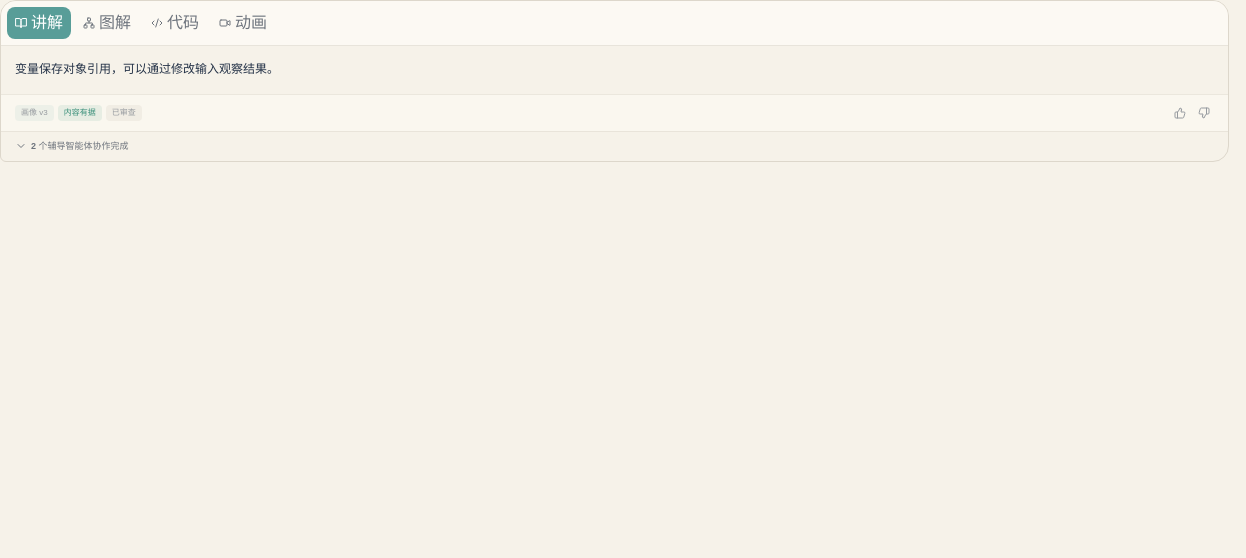
Test case: TutorRichResponse › plays the storyboard using per-scene timing
The width and height of the screenshot is (1246, 558).
Step 1. Click the button "动画" → (243, 23), box x1=211 y1=7 x2=275 y2=39
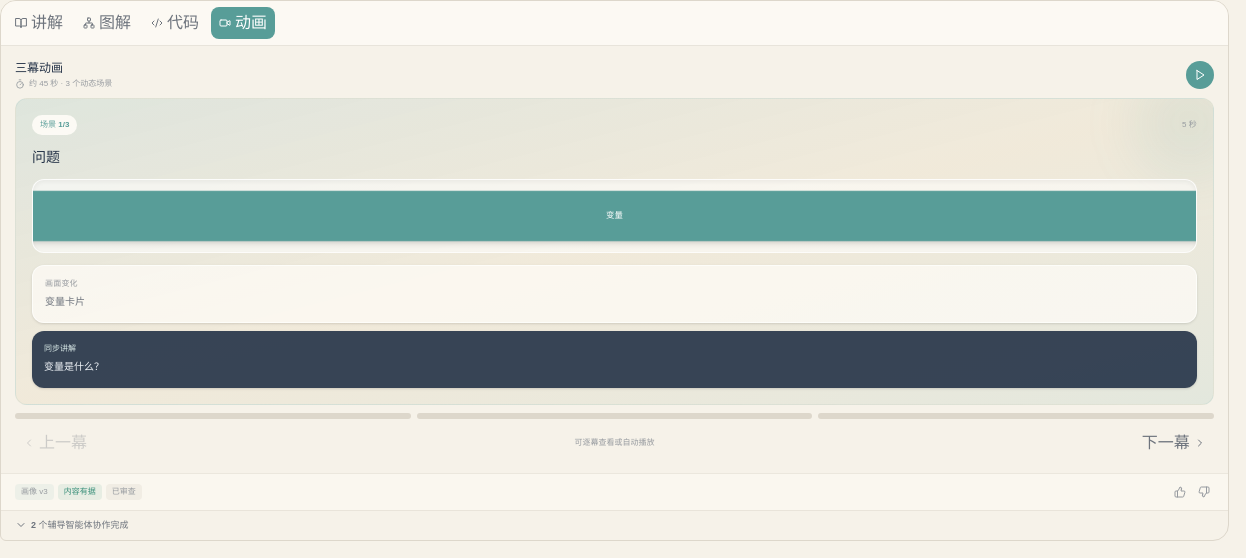
Step 2. Click the button named "播放动画" → (1200, 75), box x1=1186 y1=61 x2=1214 y2=89
Wait 5100 ms
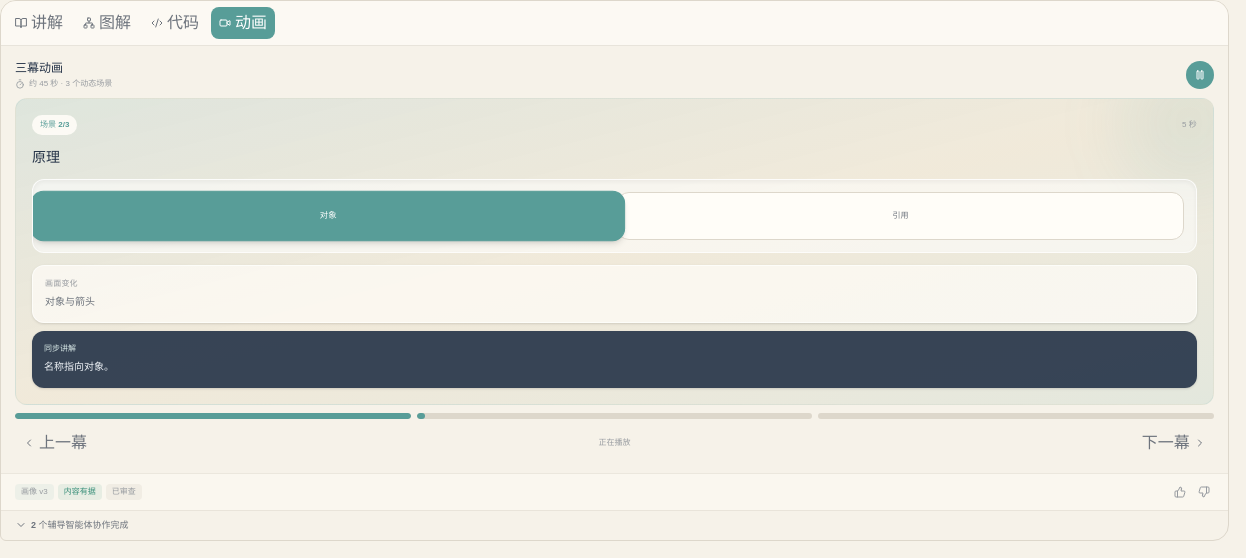
expect the text "正在播放" is shown: met, box x1=598 y1=436 x2=630 y2=448
expect the text "场景 2/3" is shown: met, box x1=32 y1=115 x2=77 y2=135
expect the text "对象与箭头" is shown: met, box x1=45 y1=296 x2=95 y2=307
